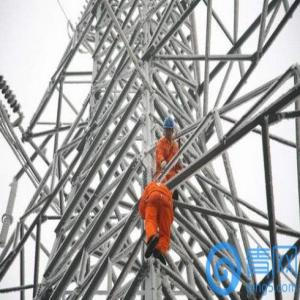blue: (163, 116, 176, 140)
